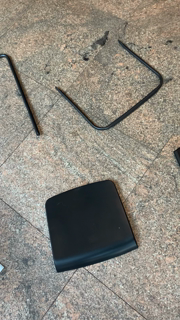C pipe: (54, 39, 168, 135)
Seat: (44, 178, 142, 275)
